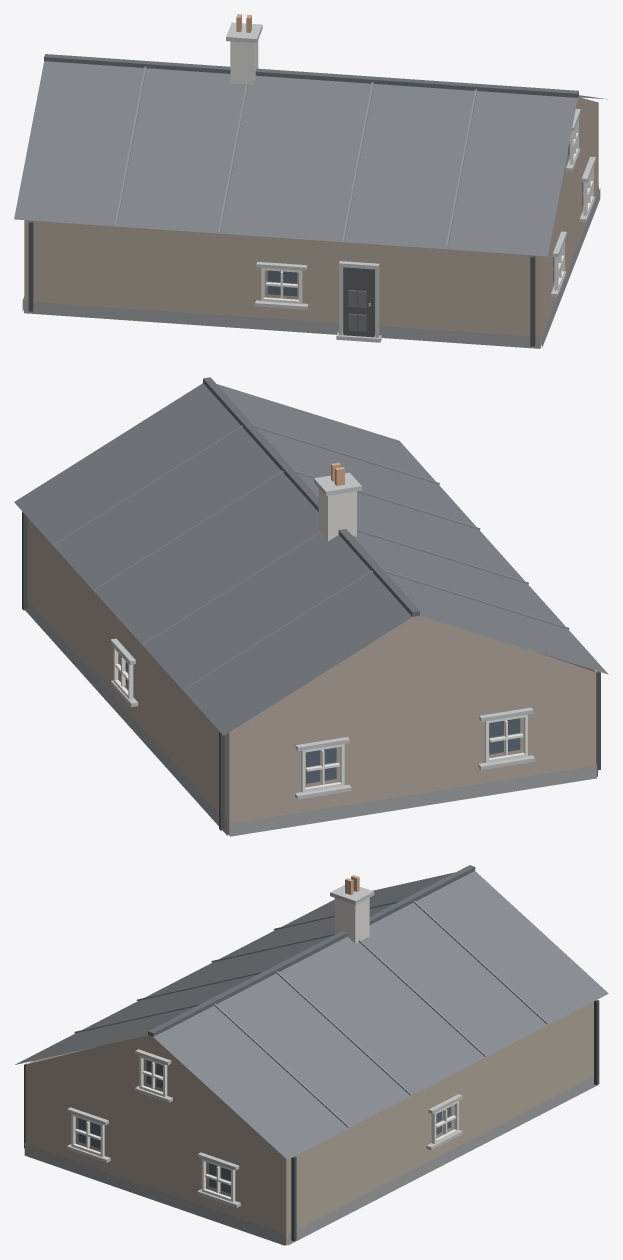
The picture shows the model from 3 angles, top to bottom: view 1: azimuth 30°, elevation 25°; view 2: azimuth 150°, elevation 25°; view 3: azimuth 270°, elevation 25°; orthographic projection. The views are drawn at different scales.
Parts seen in each view (by area): view 1: slate, harl_brown, plinth, slate_dk, stone_band, frame, slate_lt, door_dark, chim_render, pipe, door_dark_p; view 2: slate, harl_brown, plinth, slate_lt, slate_dk, stone_band, frame, pipe, chim_render; view 3: slate, harl_brown, plinth, slate_lt, slate_dk, frame, stone_band, chim_render, pipe.
Boxes of the visible parts, x1,y1,x2,y2 form: slate: (14,61,607,256); harl_brown: (24,97,598,347); plinth: (22,186,600,348); slate_dk: (44,54,578,97); stone_band: (226,22,595,342); frame: (261,118,593,303); slate_lt: (115,66,476,248); door_dark: (343,267,374,337); chim_render: (230,40,258,84); pipe: (28,221,535,346); door_dark_p: (348,290,366,331); slate: (14,383,608,735); harl_brown: (27,518,596,835); plinth: (25,600,597,836); slate_lt: (53,425,569,691); slate_dk: (203,377,419,616); stone_band: (110,472,535,799); frame: (113,647,527,792); pipe: (22,511,600,830); chim_render: (318,488,356,541); slate: (15,871,608,1159); harl_brown: (25,1001,593,1245); plinth: (24,1076,597,1245); slate_lt: (74,900,548,1127); slate_dk: (148,865,475,1036); frame: (71,1055,458,1201); stone_band: (66,885,462,1207); chim_render: (334,898,369,943); pipe: (24,1000,599,1241).
Size of the model in its own units: 17.64 by 6.98 by 16.99.
